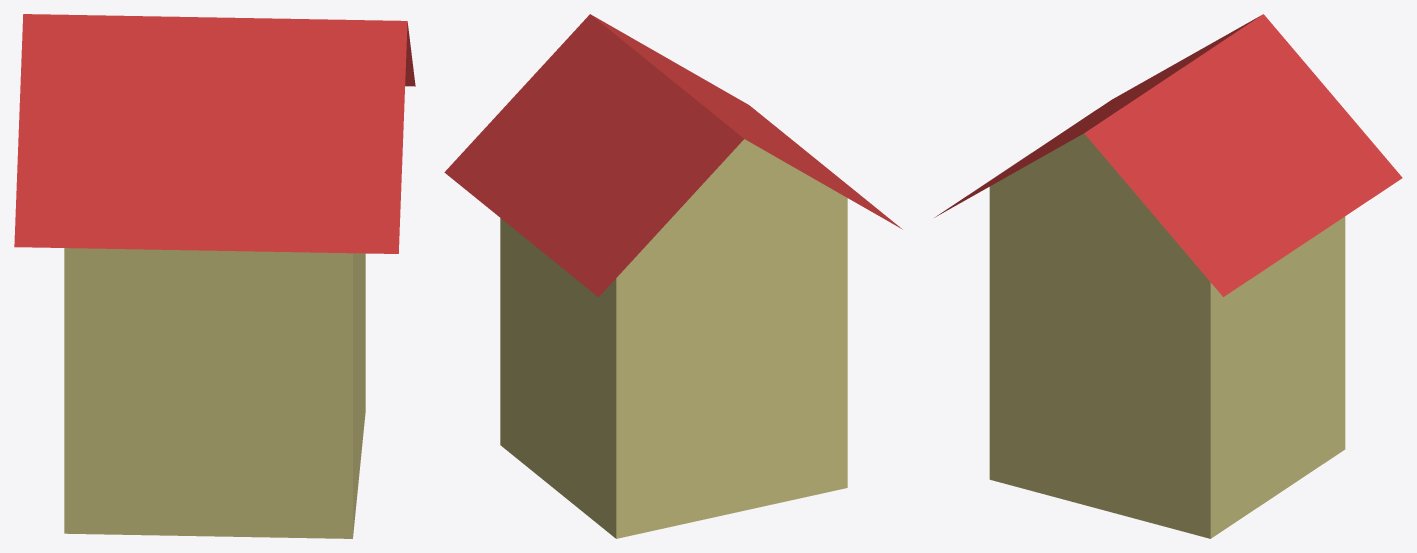
3 renders of one model, left to right at view 1: azimuth 30°, elevation 25°; view 2: azimuth 150°, elevation 25°; view 3: azimuth 270°, elevation 25°, orthographic. The views are drawn at different scales.
Size of the model in its own units: 8.41 by 8.46 by 7.79.
